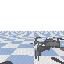drone: (30, 37, 64, 61)
